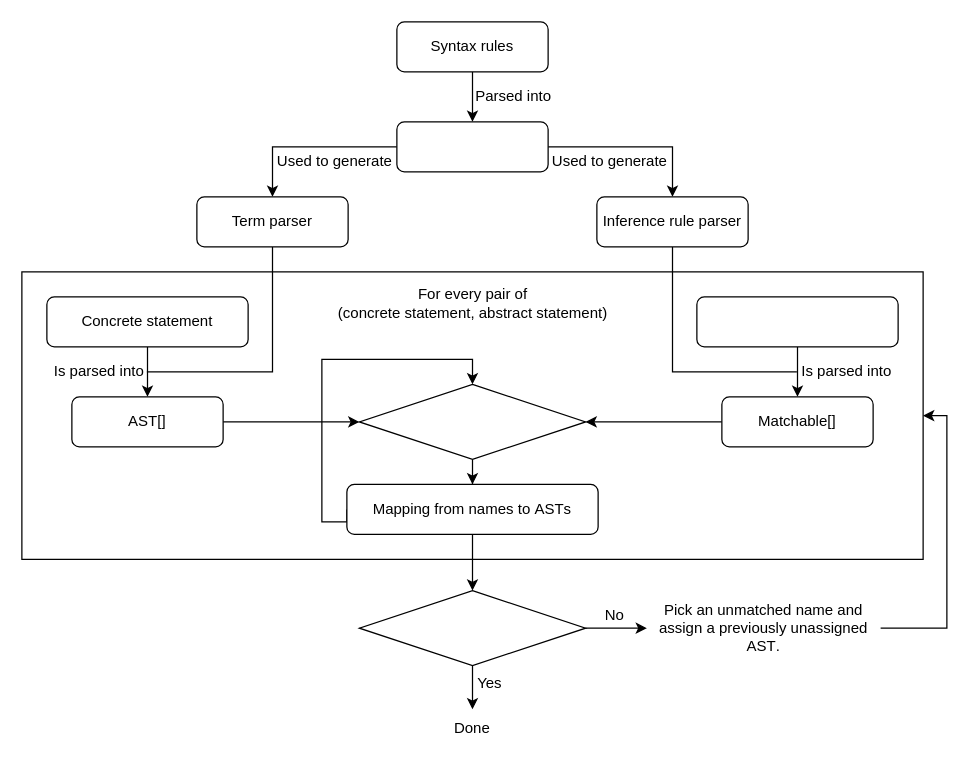
The diagram is 979 pixels wide and 769 high, and some of its shapes have lost their labels. The shapes that lost their labels are listed below. From the top down, each one's box as (x1, y1, x2, y2) in pixels, then its label:
(396, 121, 548, 172): Token[]
(696, 296, 898, 347): Abstract statement
(358, 383, 586, 459): Matching algorithm
(358, 589, 586, 666): All names matched?
